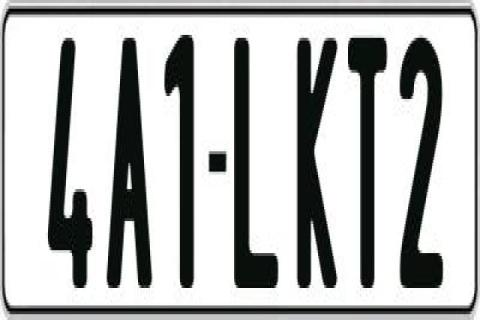0: (400, 29, 450, 285), (47, 29, 95, 288), (160, 29, 192, 288)
A: (108, 32, 158, 300)
K: (297, 29, 341, 291)
L: (231, 29, 275, 297)
T: (348, 38, 390, 302)
